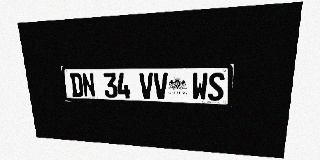3: (103, 73, 118, 98)
4: (116, 73, 131, 98)
D: (69, 73, 84, 97)
N: (81, 73, 96, 97)
S: (208, 72, 225, 101)
V: (139, 73, 154, 99), (153, 73, 168, 99)
W: (192, 73, 208, 101)
